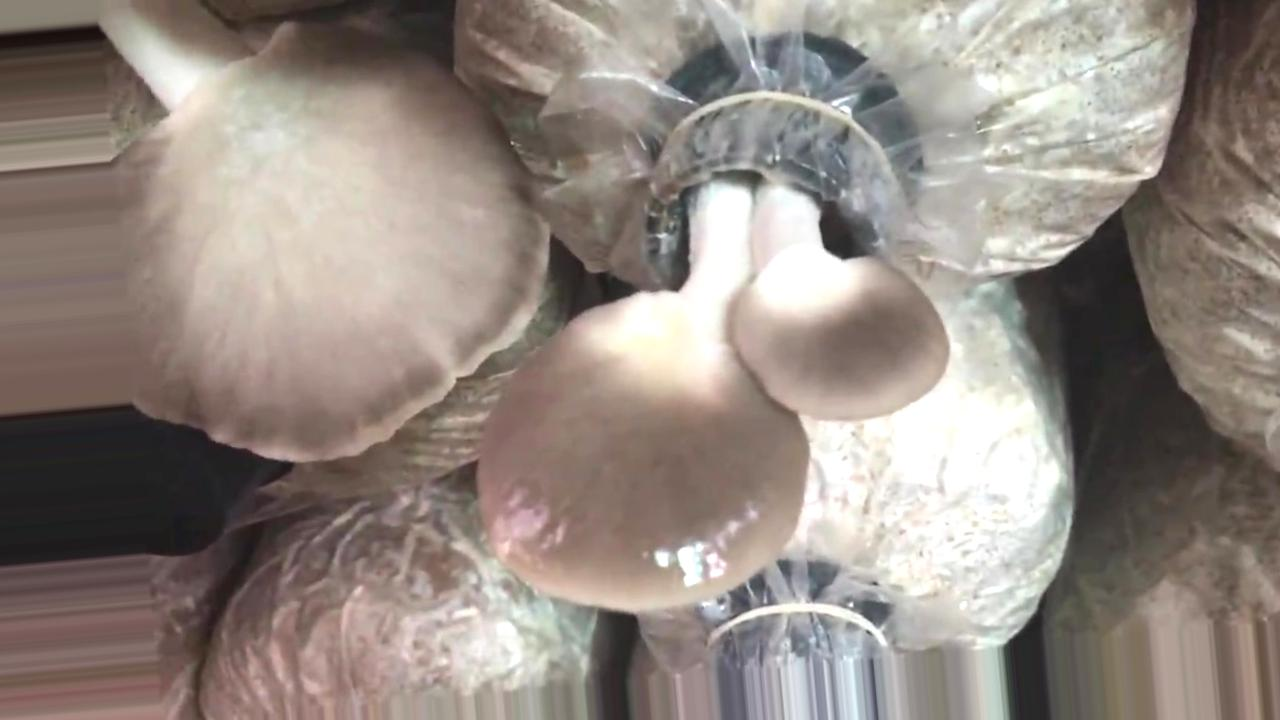nam: (1, 1, 559, 467), (470, 74, 952, 613)
